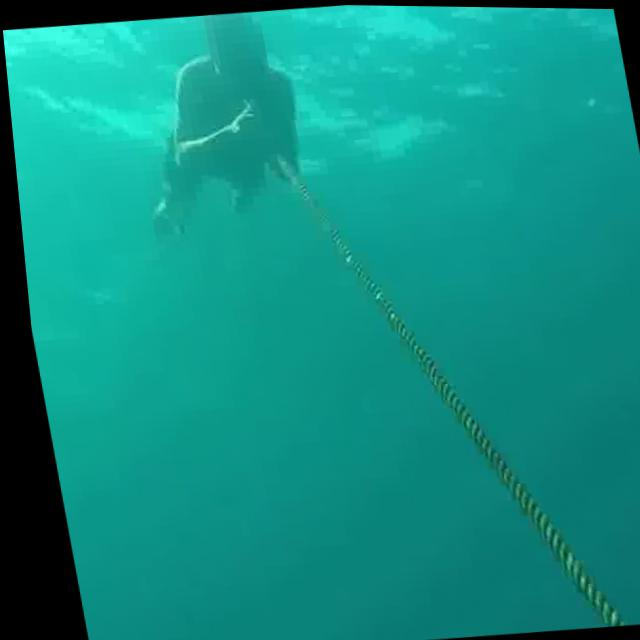human: (106, 5, 330, 242)
